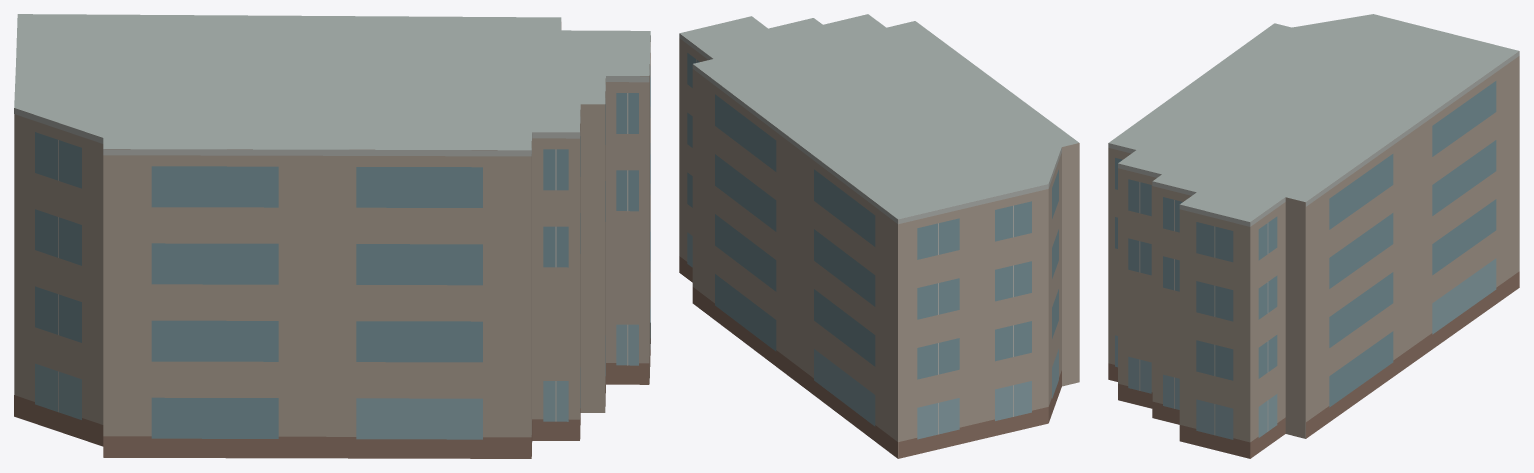
Rendered from residential-c3750119-eeb5-405a-9437-bba815de4ea8.glb.
3 renders of one model, left to right at view 1: azimuth 30°, elevation 25°; view 2: azimuth 150°, elevation 25°; view 3: azimuth 270°, elevation 25°, orthographic. The views are drawn at different scales.
Parts seen in each view (by area): view 1: residential-c3750119-eeb5-405a-9437-bba815de4ea8.tmp; view 2: residential-c3750119-eeb5-405a-9437-bba815de4ea8.tmp; view 3: residential-c3750119-eeb5-405a-9437-bba815de4ea8.tmp.
Boxes of the visible parts, x1,y1,x2,y2 form: residential-c3750119-eeb5-405a-9437-bba815de4ea8.tmp: (14,14,650,458); residential-c3750119-eeb5-405a-9437-bba815de4ea8.tmp: (679,14,1079,458); residential-c3750119-eeb5-405a-9437-bba815de4ea8.tmp: (1108,14,1519,458).
Size of the model in its own units: 23.02 by 12.2 by 19.21.
